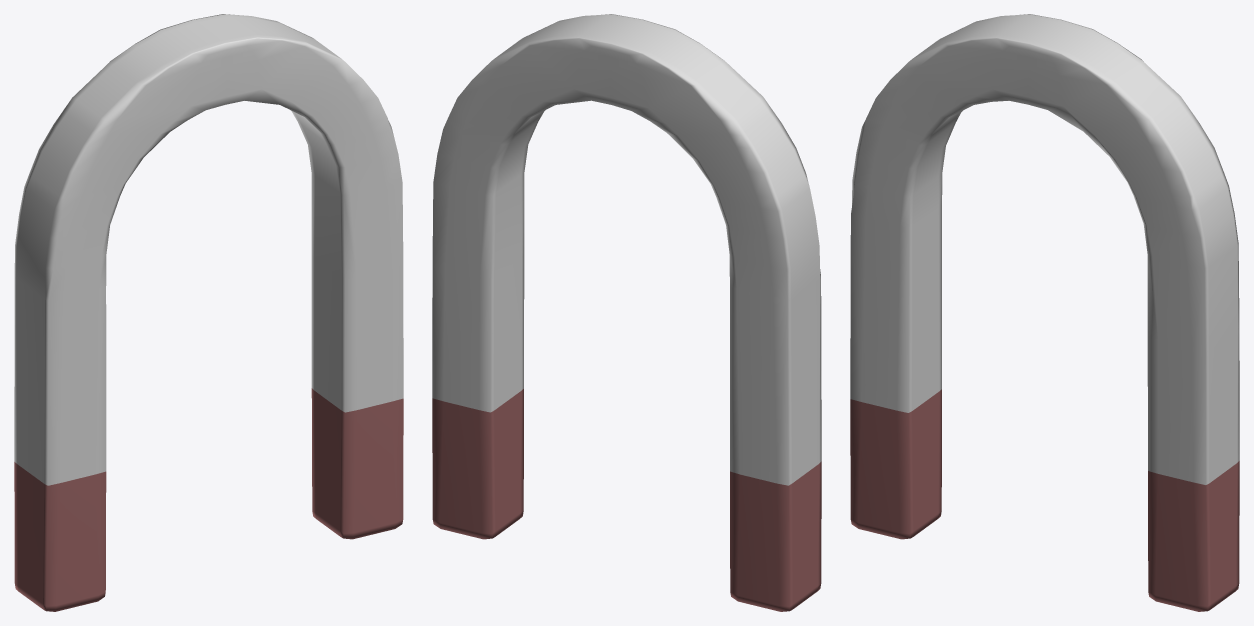
Rendered from MagnetFixed.fbx.
The picture shows the model from 3 angles, left to right: view 1: azimuth 30°, elevation 25°; view 2: azimuth 150°, elevation 25°; view 3: azimuth 330°, elevation 25°; orthographic projection.
Parts seen in each view (by area): view 1: Magnet; view 2: Magnet; view 3: Magnet.
Boxes of the visible parts, x1,y1,x2,y2 form: Magnet: (14,14,403,611); Magnet: (432,14,821,611); Magnet: (850,14,1239,611).
Bounding box in the file's own units: 7.31 × 10.33 × 1.22.
